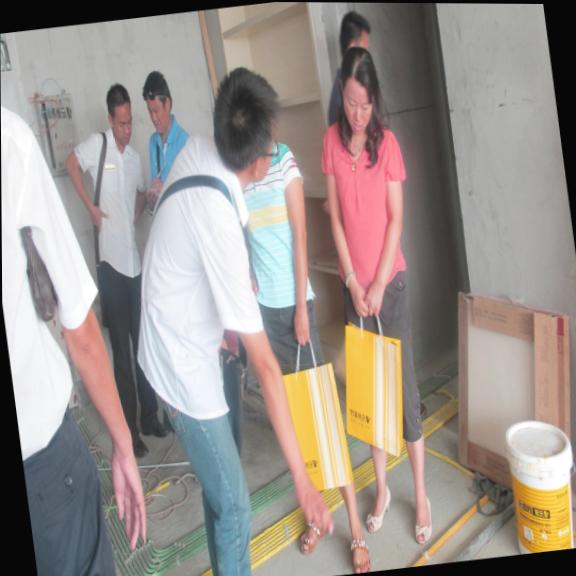no_safety_vest: (0, 64, 115, 472), (130, 130, 274, 430), (316, 113, 421, 313), (232, 122, 320, 314), (70, 125, 153, 286), (143, 119, 201, 211)
